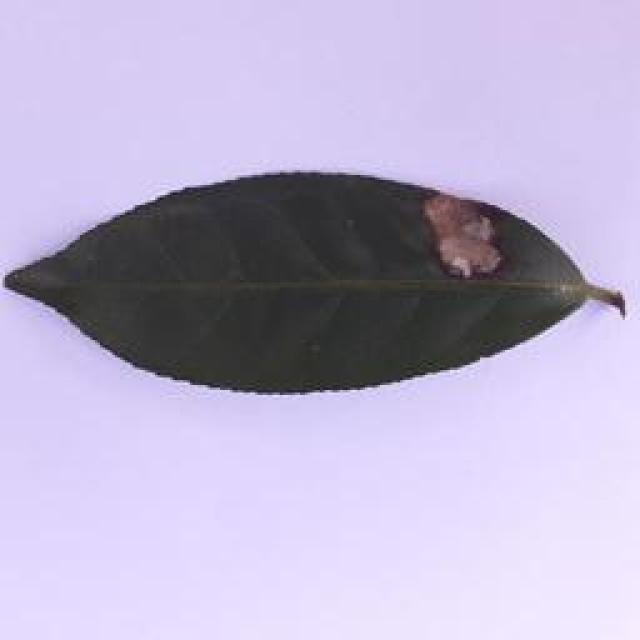Gray Blight: (0, 169, 632, 394)
